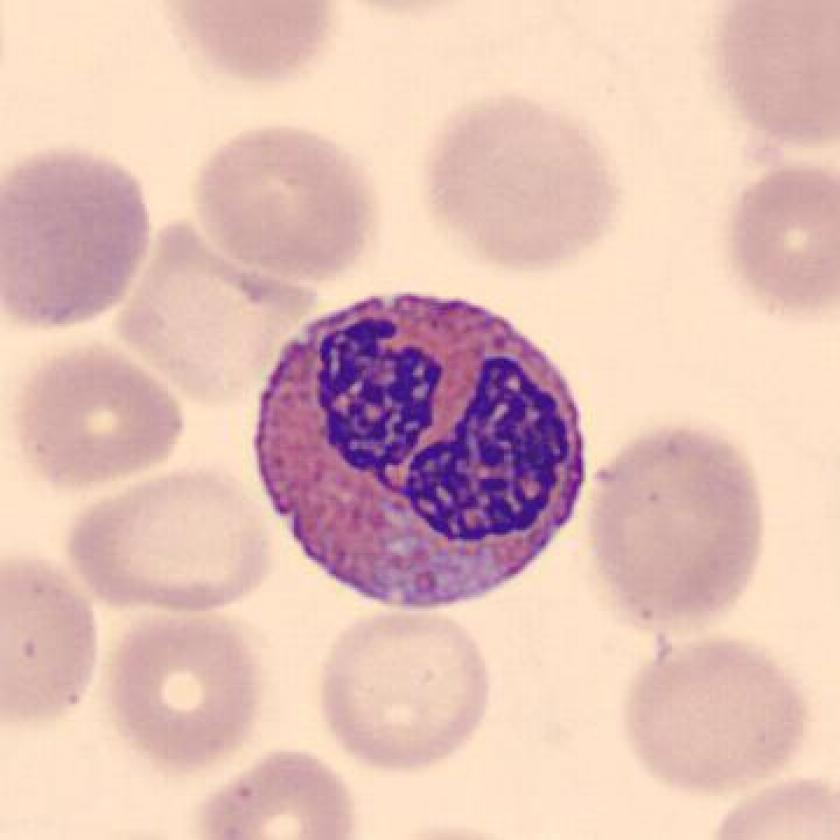eosinophil: (246, 281, 596, 623)
